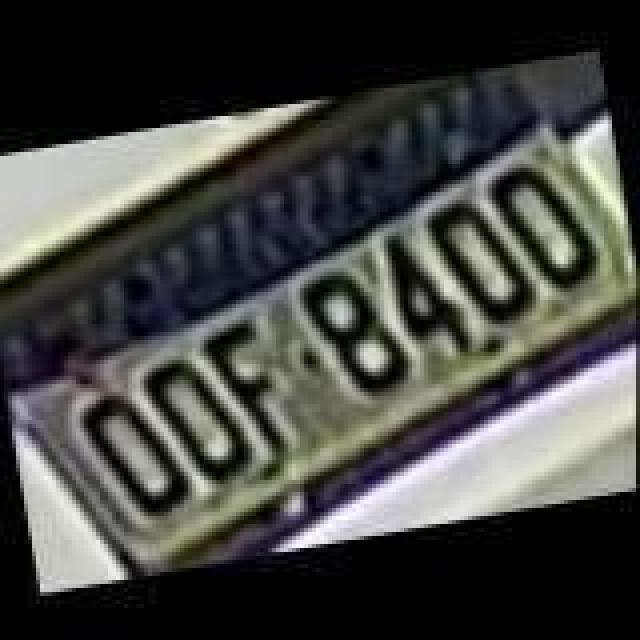4: (378, 216, 482, 376)
8: (292, 250, 416, 406)
F: (192, 318, 300, 466)
O: (136, 336, 260, 496), (416, 180, 540, 332), (78, 378, 198, 534), (482, 150, 602, 298)
